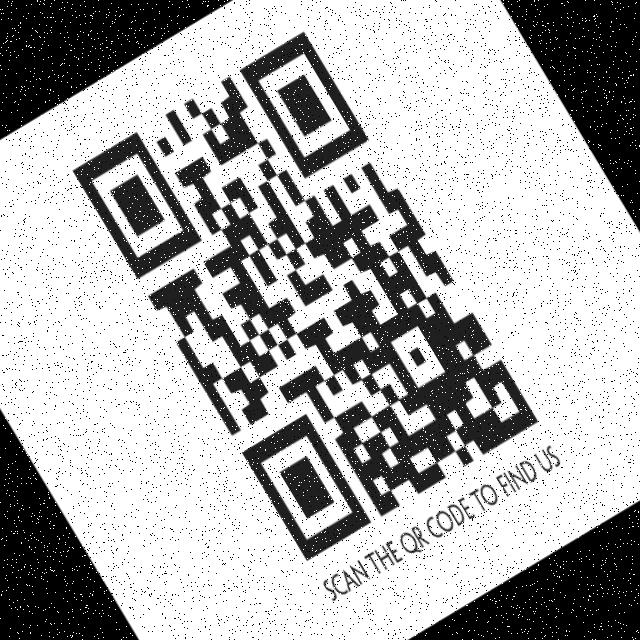QR-codes: (68, 26, 546, 568)
